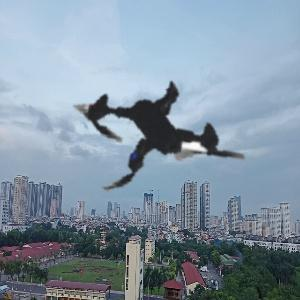drone: (23, 3, 298, 278)
